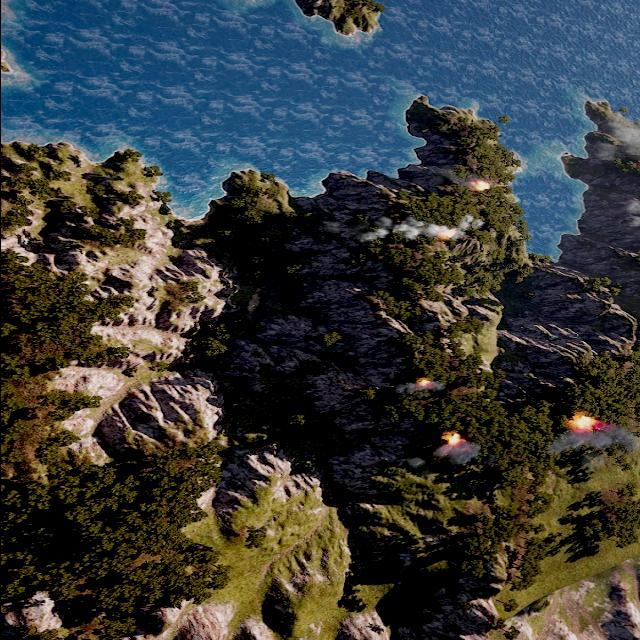fire: (570, 414, 601, 432), (442, 432, 463, 446), (466, 180, 489, 192), (416, 380, 432, 388)
smoke: (352, 213, 482, 245), (549, 428, 640, 458), (591, 109, 640, 163), (426, 444, 482, 464)
